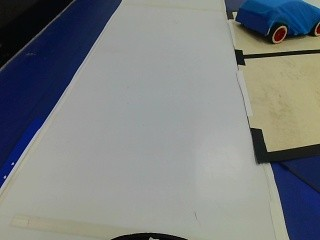car: (229, 0, 318, 47)
